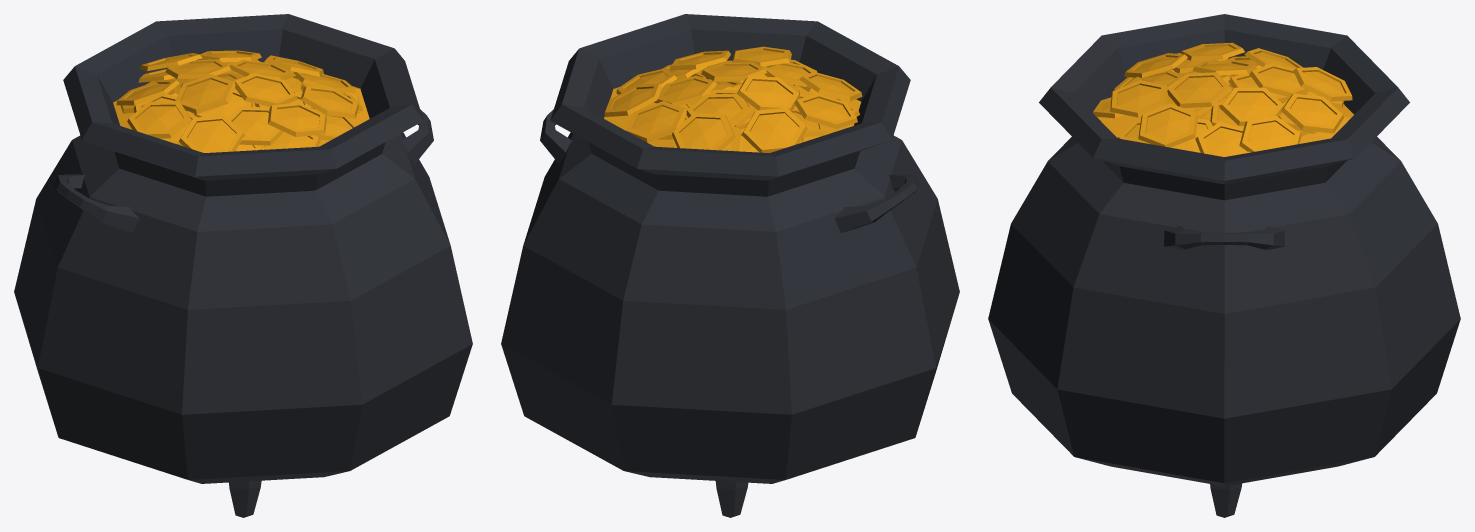
The model's file is GoldPot.fbx.
3 renders of one model, left to right at view 1: azimuth 30°, elevation 25°; view 2: azimuth 150°, elevation 25°; view 3: azimuth 270°, elevation 25°, orthographic.
Visible parts, largest first — view 1: GoldPot; view 2: GoldPot; view 3: GoldPot.
Boxes of the visible parts, x1=… form: GoldPot: x1=14, y1=14, x2=472, y2=517; GoldPot: x1=501, y1=14, x2=959, y2=517; GoldPot: x1=988, y1=14, x2=1460, y2=517.
Size of the model in its own units: 118 by 103 by 118.
